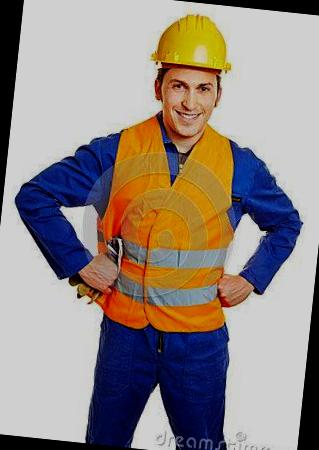helmet: (142, 7, 238, 82)
person: (47, 0, 284, 450)
